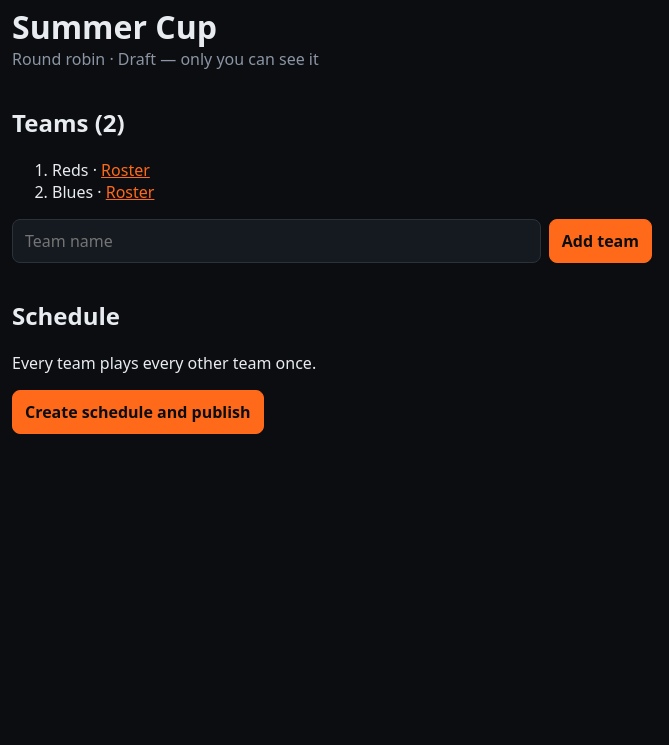
Test: CompetitionPanel › enables scheduling with 2+ teams, then shows rounds with team names and a scorer link
The width and height of the screenshot is (669, 745).
Step 1. Click the button "Create schedule and publish" → click(138, 412), box [12,390,264,434]
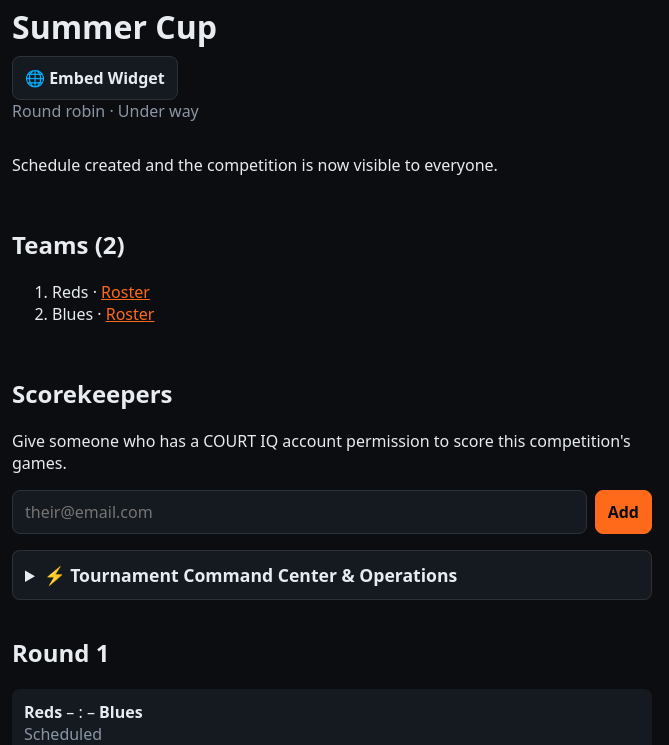
Expected: the text "Reds" below "Round 1" is shown, [24,701,62,723]
Expected: the text "Blues" below "Round 1" is shown, [99,701,143,723]
Expected: the button "Create schedule and publish" is gone
